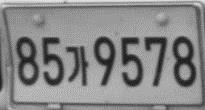5: (120, 36, 143, 87), (41, 36, 64, 86)
7: (144, 36, 167, 86)
8: (171, 35, 196, 87), (15, 36, 39, 85)
9: (93, 35, 116, 85)
가: (65, 45, 88, 86)
